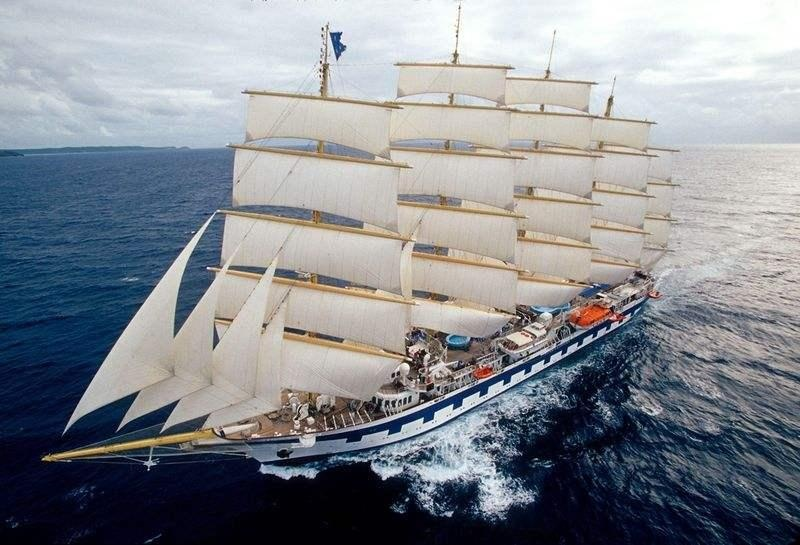fanchuan: (34, 2, 681, 472)
